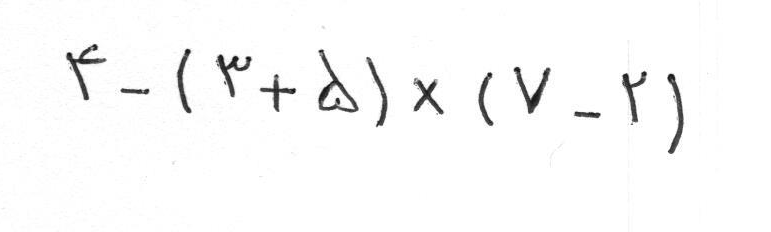character: (317, 49, 360, 114), (65, 43, 108, 104), (514, 66, 552, 115), (216, 54, 254, 101), (666, 72, 687, 156), (367, 56, 390, 128), (622, 71, 648, 128), (260, 73, 296, 113), (413, 77, 444, 117), (177, 48, 192, 115), (478, 71, 493, 128), (120, 88, 152, 103), (573, 111, 604, 124)
